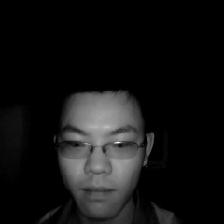normal: (41, 78, 155, 221)
